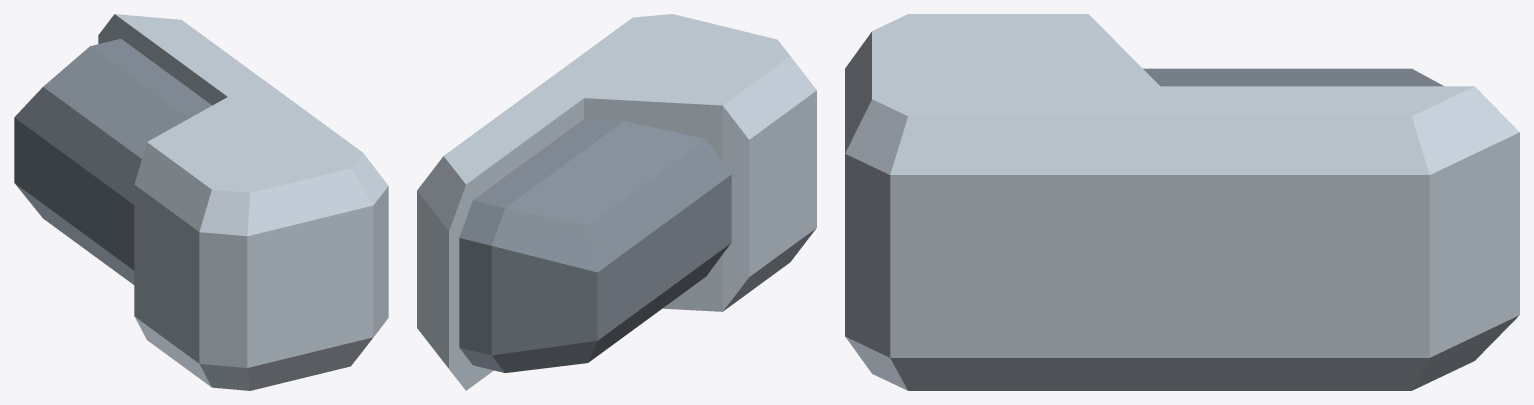
File: arm.FBX
3 renders of one model, left to right at view 1: azimuth 30°, elevation 25°; view 2: azimuth 150°, elevation 25°; view 3: azimuth 270°, elevation 25°, orthographic. The views are drawn at different scales.
Visible parts, largest first — view 1: VIFS001, VIFS002; view 2: VIFS001, VIFS002; view 3: VIFS001, VIFS002.
Part boxes in pixels (x1,y1,x2,y2): VIFS001: [98, 14, 388, 390]; VIFS002: [14, 38, 211, 284]; VIFS001: [417, 14, 816, 390]; VIFS002: [459, 119, 731, 372]; VIFS001: [845, 14, 1519, 390]; VIFS002: [1143, 68, 1443, 86].
Size of the model in its own units: 0.269 by 0.269 by 0.599.
